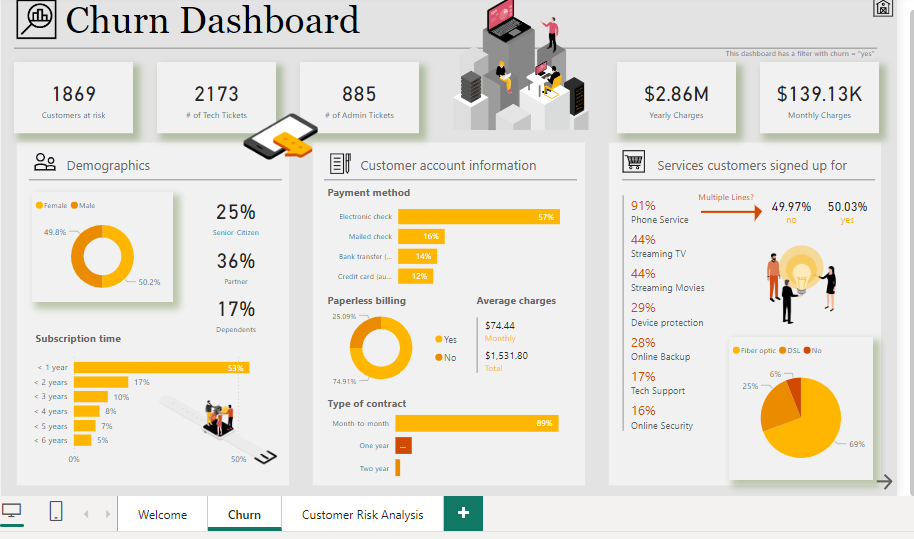

The page's visual inventory and layout, read from the dashboard file:
{"tool":"powerbi","page":{"name":"Churn","canvas":[1280,720],"ordinal":1},"visuals":[{"type":"textbox","box":[87.7,4.9,1173.8,75],"z":0},{"type":"basicShape","box":[8.7,60.7,1253,40.5],"z":1000},{"type":"basicShape","box":[18.3,210,396.8,499.9],"z":2000},{"type":"card","fields":{"Values":["CountNonNull(churn.customerID)"]},"box":[18.5,99.4,170,102.3],"z":3000},{"type":"basicShape","box":[441.6,210,396.8,499.9],"z":4000},{"type":"basicShape","box":[864.9,210,396.8,499.9],"z":5000},{"type":"textbox","box":[508.5,228.6,314.9,35.6],"z":6000},{"type":"basicShape","box":[450.7,248.9,381.4,39.5],"z":7000},{"type":"image","box":[461.3,226.3,47.2,39.5],"z":8000},{"type":"textbox","box":[932.7,228.6,314.9,35.6],"z":9000},{"type":"basicShape","box":[877.4,248.9,381.4,39.5],"z":10000},{"type":"textbox","box":[88,228.6,314.9,35.6],"z":11000},{"type":"basicShape","box":[30.2,248.9,381.4,39.5],"z":12000},{"type":"image","box":[883.2,220.6,42.4,43.3],"z":13000},{"type":"image","box":[43.3,220.6,40.5,44.3],"z":14000},{"type":"donutChart","fields":{"Category":["churn.gender"],"Y":["CountNonNull(churn.gender)"]},"box":[43.8,286,201.3,156.6],"z":15000},{"type":"card","fields":{"Values":["churn.SeniorCitizen in %"]},"box":[271.4,268.7,128.1,100.2],"z":16000},{"type":"card","fields":{"Values":["churn.Partner in %"]},"box":[271.4,338.1,128.4,100.2],"z":17000},{"type":"card","fields":{"Values":["churn.Dependents in %"]},"box":[271.4,407.5,128.4,100.2],"z":18000},{"type":"clusteredBarChart","fields":{"Category":["churn.Contract"],"Y":["CountNonNull(churn.Contract)"]},"box":[461.3,577.9,370.8,131.9],"z":19000},{"type":"clusteredBarChart","fields":{"Y":["CountNonNull(churn.PaymentMethod)"],"Category":["churn.PaymentMethod"]},"box":[461.3,286,370.8,148.3],"z":20000},{"type":"textbox","box":[461.3,269.7,314.9,35.6],"z":21000},{"type":"textbox","box":[461.3,424.7,204.2,35.6],"z":22000},{"type":"donutChart","fields":{"Category":["churn.PaperlessBilling"],"Y":["CountNonNull(churn.PaperlessBilling)"]},"box":[461.3,438.2,204.2,139.7],"z":23000},{"type":"multiRowCard","fields":{"Values":["Avg(churn.MonthlyCharges)","Avg(churn.TotalCharges)"]},"box":[674.2,460.4,149.3,95.3],"z":24000},{"type":"textbox","box":[461.3,572.1,314.9,35.6],"z":25000},{"type":"pieChart","fields":{"Category":["churn.InternetService"],"Y":["Divide(CountNonNull(churn.InternetService), ScopedEval(CountNonNull(churn.InternetService), []))"]},"box":[1040.4,492.9,205.5,203.6],"z":26000},{"type":"card","fields":{"Values":["churn.Multiple Lines in %"]},"box":[1172.8,276.4,72.2,62.6],"z":27000},{"type":"card","fields":{"Values":["churn.Multiple lines no in %"]},"box":[1093.1,276.4,72.2,61.6],"z":28000},{"type":"textbox","box":[971.7,278.2,129.4,27.2],"z":29000},{"type":"textbox","box":[1092.2,311,73.2,35.6],"z":30000},{"type":"textbox","box":[1172.8,311,73.2,35.6],"z":31000},{"type":"textbox","box":[674.2,424.7,148.3,35.6],"z":32000},{"type":"multiRowCard","fields":{"Values":["churn.Phone Service in %","churn.Streaming TV in %","churn.Streaming Movies in %","churn.Device protection in %","churn.Online Bacup in %","churn.Tech Support in %","churn.Online Sec. in %"]},"box":[882.2,286,165.3,414.3],"z":33000},{"type":"basicShape","box":[990.2,300.5,97.3,28.2],"z":34000},{"type":"basicShape","box":[1063.1,296.7,37.9,32.1],"z":35000},{"type":"clusteredBarChart","fields":{"Y":["CountNonNull(churn.Churn)"],"Category":["churn.Loyalty"]},"box":[37,507.7,365.7,179],"z":36000},{"type":"textbox","box":[43.8,478.5,314.2,35],"z":37000},{"type":"image","box":[1048.2,356.5,190.9,121.8],"z":38000},{"type":"actionButton","box":[1246.1,680.1,31.6,39.5],"z":39000},{"type":"image","box":[16.6,4.9,67.2,68.2],"z":40000},{"type":"card","fields":{"Values":["Sum(churn.MonthlyCharges)"]},"box":[1083.9,99.4,170,102.3],"z":41000},{"type":"image","box":[634.9,0,216.9,202.2],"z":42000},{"type":"image","box":[221.1,556.2,178.3,139.3],"z":43000},{"type":"card","fields":{"Values":["Sum(churn.numTechTickets)"]},"box":[222.8,99.4,170,102.3],"z":44000},{"type":"card","fields":{"Values":["Sum(churn.numAdminTickets)"]},"box":[427.1,99.4,170,102.3],"z":45000},{"type":"card","fields":{"Values":["Sum(churn.TotalCharges)"]},"box":[879.7,99.4,170,102.3],"z":46000},{"type":"textbox","box":[897,72.3,355.9,30.5],"z":47000},{"type":"image","box":[341.9,151,115.9,108.1],"z":48000},{"type":"image","box":[1242,0,38,42.9],"z":49000}]}

Visuals, with their boxes on the page's 1280x720 design canvas (x1, y1, x2, y2). These are canvas units, not pixel positions in the 914x539 screenshot, which may show the page scaled, cropped or inside an application window:
textbox: x1=88 y1=5 x2=1262 y2=80
basicShape: x1=9 y1=61 x2=1262 y2=101
basicShape: x1=18 y1=210 x2=415 y2=710
card - CountNonNull(churn.customerID): x1=18 y1=99 x2=188 y2=202
basicShape: x1=442 y1=210 x2=838 y2=710
basicShape: x1=865 y1=210 x2=1262 y2=710
textbox: x1=508 y1=229 x2=823 y2=264
basicShape: x1=451 y1=249 x2=832 y2=288
image: x1=461 y1=226 x2=508 y2=266
textbox: x1=933 y1=229 x2=1248 y2=264
basicShape: x1=877 y1=249 x2=1259 y2=288
textbox: x1=88 y1=229 x2=403 y2=264
basicShape: x1=30 y1=249 x2=412 y2=288
image: x1=883 y1=221 x2=926 y2=264
image: x1=43 y1=221 x2=84 y2=265
donutChart - churn.gender x CountNonNull(churn.gender): x1=44 y1=286 x2=245 y2=443
card - churn.SeniorCitizen in %: x1=271 y1=269 x2=400 y2=369
card - churn.Partner in %: x1=271 y1=338 x2=400 y2=438
card - churn.Dependents in %: x1=271 y1=408 x2=400 y2=508
clusteredBarChart - churn.Contract x CountNonNull(churn.Contract): x1=461 y1=578 x2=832 y2=710
clusteredBarChart - CountNonNull(churn.PaymentMethod) x churn.PaymentMethod: x1=461 y1=286 x2=832 y2=434
textbox: x1=461 y1=270 x2=776 y2=305
textbox: x1=461 y1=425 x2=666 y2=460
donutChart - churn.PaperlessBilling x CountNonNull(churn.PaperlessBilling): x1=461 y1=438 x2=666 y2=578
multiRowCard - Avg(churn.MonthlyCharges) x Avg(churn.TotalCharges): x1=674 y1=460 x2=824 y2=556
textbox: x1=461 y1=572 x2=776 y2=608
pieChart - churn.InternetService x Divide(CountNonNull(churn.InternetService), ScopedEval(CountNonNull(churn.InternetService), [])): x1=1040 y1=493 x2=1246 y2=696
card - churn.Multiple Lines in %: x1=1173 y1=276 x2=1245 y2=339
card - churn.Multiple lines no in %: x1=1093 y1=276 x2=1165 y2=338
textbox: x1=972 y1=278 x2=1101 y2=305
textbox: x1=1092 y1=311 x2=1165 y2=347
textbox: x1=1173 y1=311 x2=1246 y2=347
textbox: x1=674 y1=425 x2=822 y2=460
multiRowCard - churn.Phone Service in % x churn.Streaming TV in %: x1=882 y1=286 x2=1048 y2=700
basicShape: x1=990 y1=300 x2=1088 y2=329
basicShape: x1=1063 y1=297 x2=1101 y2=329
clusteredBarChart - CountNonNull(churn.Churn) x churn.Loyalty: x1=37 y1=508 x2=403 y2=687
textbox: x1=44 y1=478 x2=358 y2=514
image: x1=1048 y1=356 x2=1239 y2=478
actionButton: x1=1246 y1=680 x2=1278 y2=720
image: x1=17 y1=5 x2=84 y2=73
card - Sum(churn.MonthlyCharges): x1=1084 y1=99 x2=1254 y2=202
image: x1=635 y1=0 x2=852 y2=202
image: x1=221 y1=556 x2=399 y2=696
card - Sum(churn.numTechTickets): x1=223 y1=99 x2=393 y2=202
card - Sum(churn.numAdminTickets): x1=427 y1=99 x2=597 y2=202
card - Sum(churn.TotalCharges): x1=880 y1=99 x2=1050 y2=202
textbox: x1=897 y1=72 x2=1253 y2=103
image: x1=342 y1=151 x2=458 y2=259
image: x1=1242 y1=0 x2=1280 y2=43
